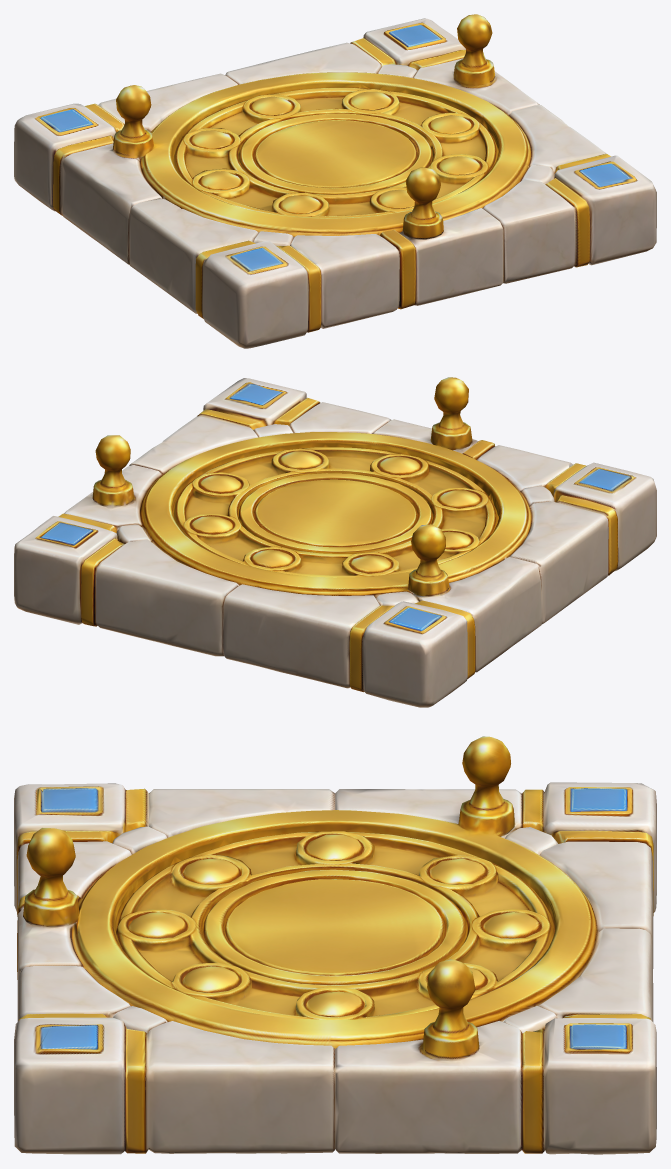
Rendered from HaloReasonHQ_PhotoDisc_HD_src.glb.
3 views of the same model, one above another, from view 1: azimuth 30°, elevation 25°; view 2: azimuth 150°, elevation 25°; view 3: azimuth 270°, elevation 25° (orthographic). The views are drawn at different scales.
Parts seen in each view (by area): view 1: tripo_node_16443b30-db23-4032-b404-dc63a8abbfda; view 2: tripo_node_16443b30-db23-4032-b404-dc63a8abbfda; view 3: tripo_node_16443b30-db23-4032-b404-dc63a8abbfda.
Part boxes in pixels (<box>): tripo_node_16443b30-db23-4032-b404-dc63a8abbfda: <box>14,14,656,348</box>; tripo_node_16443b30-db23-4032-b404-dc63a8abbfda: <box>14,377,656,707</box>; tripo_node_16443b30-db23-4032-b404-dc63a8abbfda: <box>14,736,656,1154</box>.
Size of the model in its own units: 0.9799 by 0.3011 by 0.936.
Materials: 1 (1 with a texture image).
